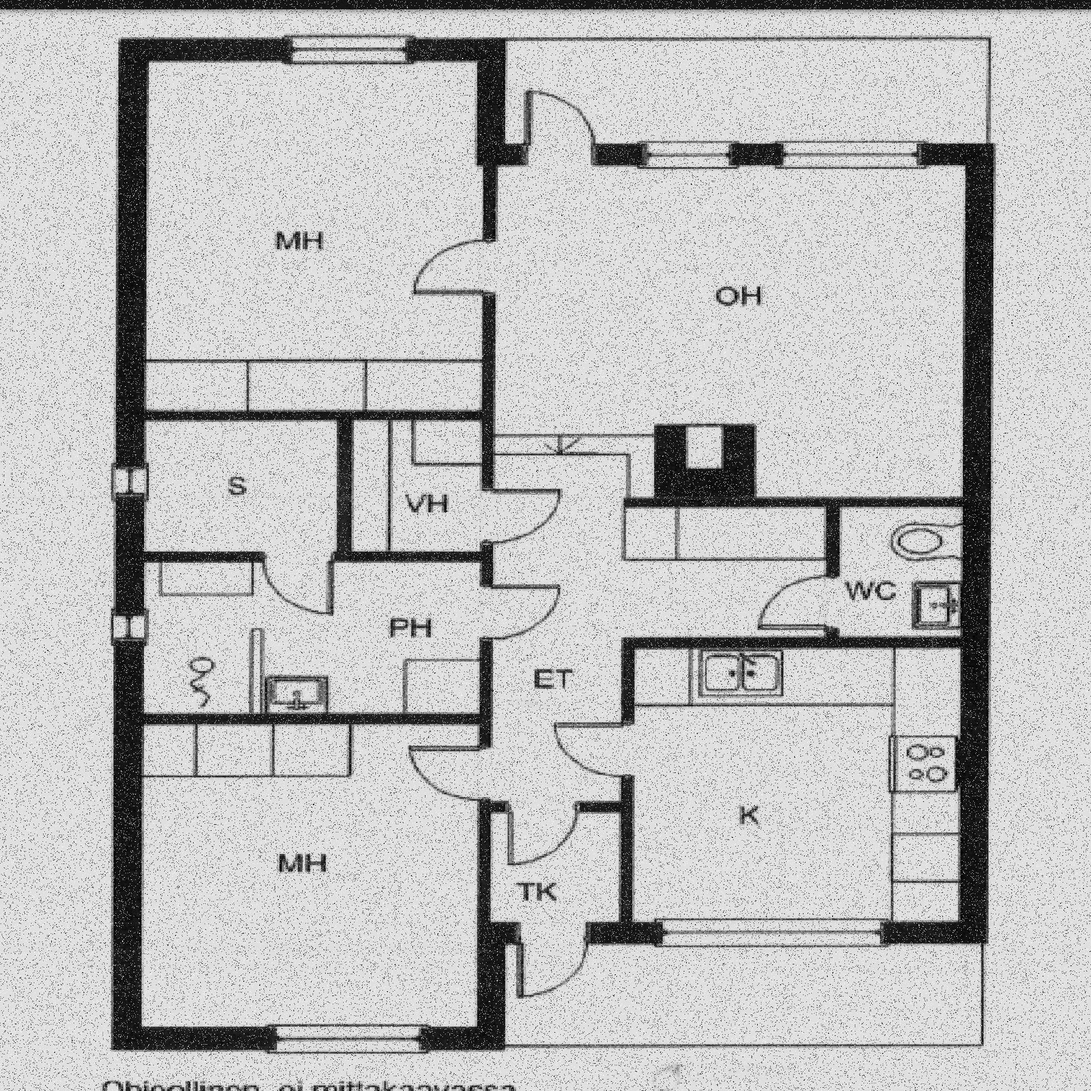wall: (113, 37, 142, 1050), (962, 144, 990, 944), (478, 144, 494, 944), (478, 922, 990, 944), (478, 144, 990, 165), (113, 1027, 506, 1050), (113, 37, 504, 60), (622, 636, 636, 943), (622, 637, 990, 648), (624, 497, 990, 508), (113, 410, 494, 420), (113, 551, 494, 561), (113, 713, 494, 723), (478, 922, 506, 1050), (478, 37, 504, 165), (826, 497, 840, 648), (338, 410, 351, 561), (478, 801, 636, 811)
